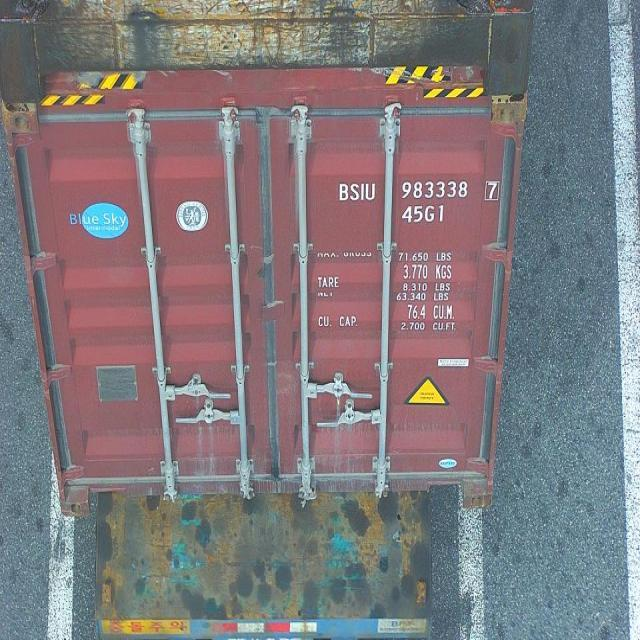ISO: (402, 205, 444, 222)
container_number: (336, 177, 502, 202)
